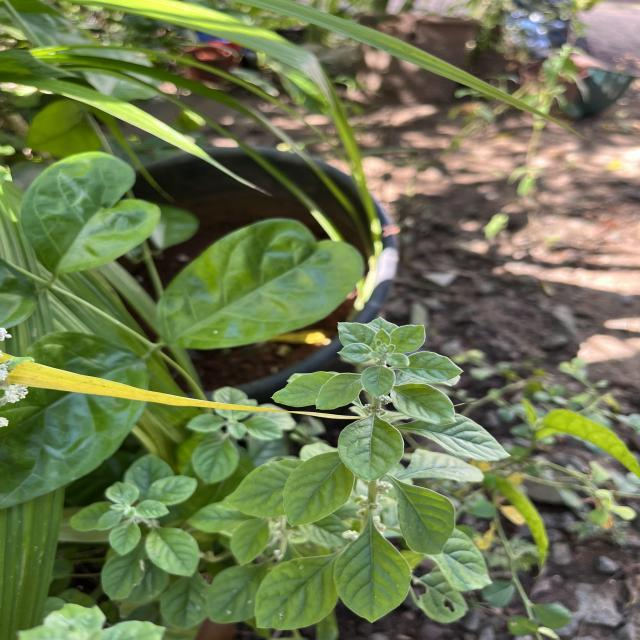Aerva lanata: (281, 450, 356, 530), (398, 412, 514, 462), (389, 475, 457, 557), (336, 412, 407, 486), (225, 458, 306, 520), (388, 382, 459, 426), (268, 370, 338, 408), (392, 350, 465, 384), (314, 371, 364, 411), (360, 364, 398, 399), (389, 323, 428, 356), (335, 320, 378, 347), (336, 341, 374, 364)
